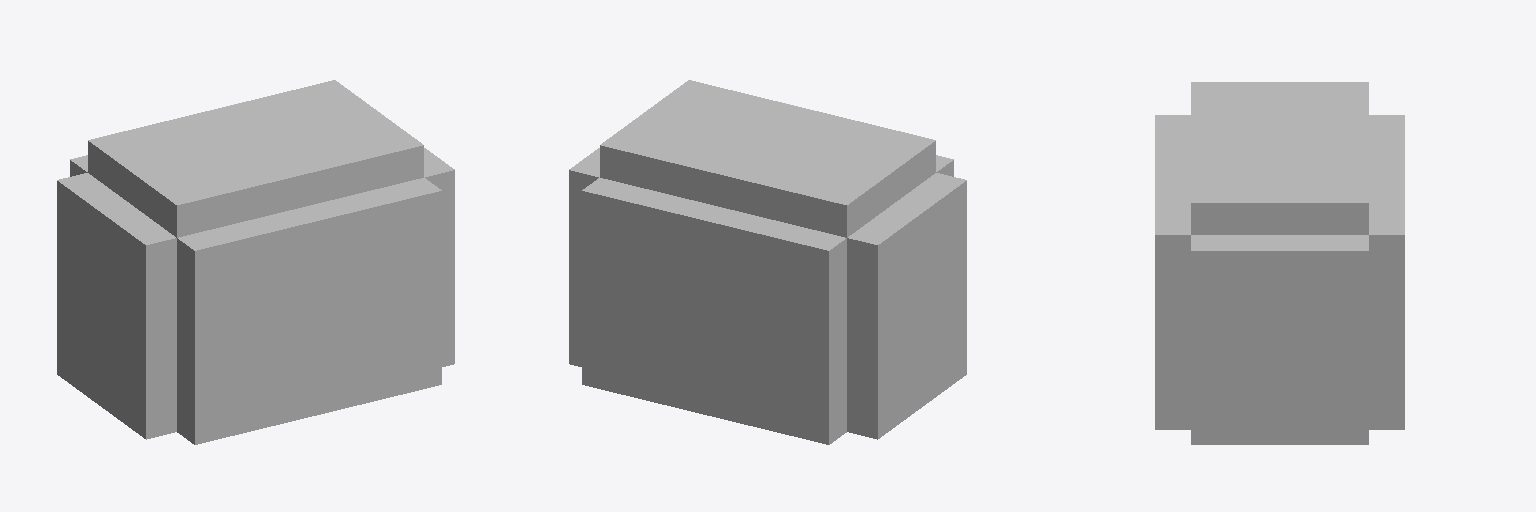
The model's file is Bush_Wide_Snow.obj.
The picture shows the model from 3 angles: view 1: azimuth 30°, elevation 25°; view 2: azimuth 150°, elevation 25°; view 3: azimuth 270°, elevation 25°; orthographic projection.
Visible parts, largest first — view 1: Bush_Wide_Snow; view 2: Bush_Wide_Snow; view 3: Bush_Wide_Snow.
Boxes of the visible parts, <box> form: Bush_Wide_Snow: <box>57,80,454,444</box>; Bush_Wide_Snow: <box>569,80,966,444</box>; Bush_Wide_Snow: <box>1155,82,1404,444</box>.
Size of the model in its own units: 10 by 7 by 7.